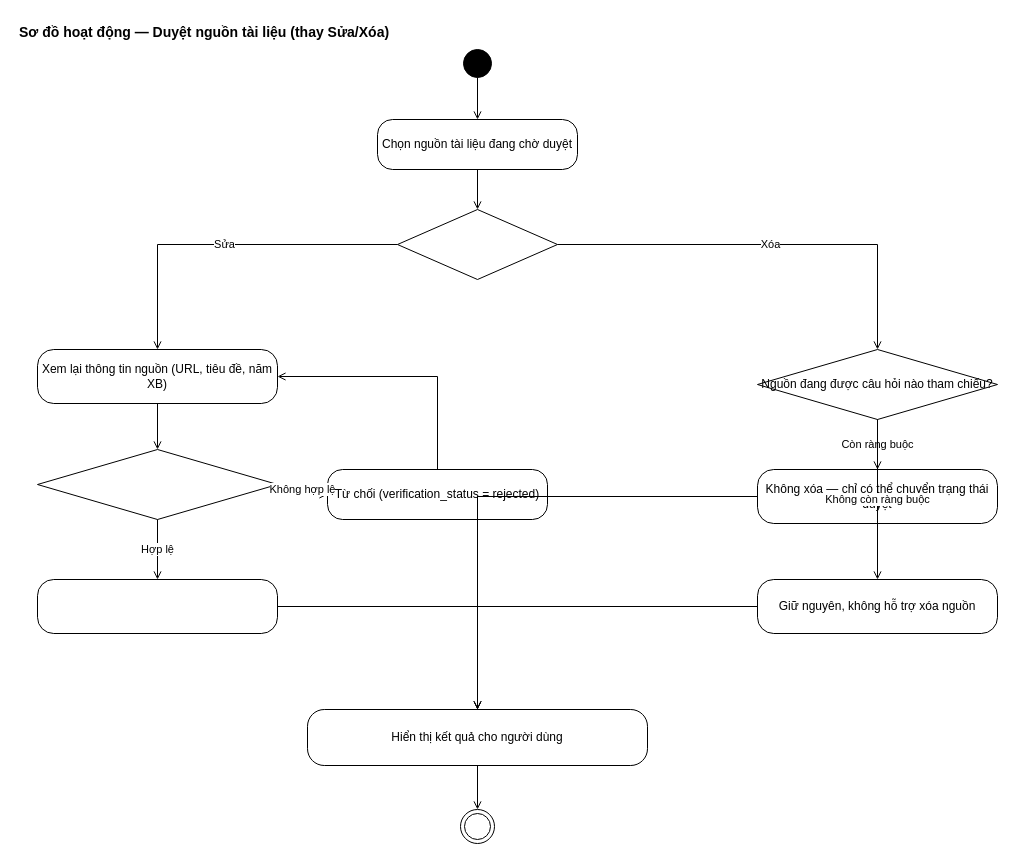
The diagram is 1015 pixels wide and 861 high, and some of its shapes have lost their labels. Each missing label, with the box of its shape:
Sửa hay Xóa?: (396, 208, 558, 280)
Thông tin đủ căn cứ xác thực?: (36, 448, 278, 520)
Xác thực (verification_status = verified): (36, 578, 278, 634)
